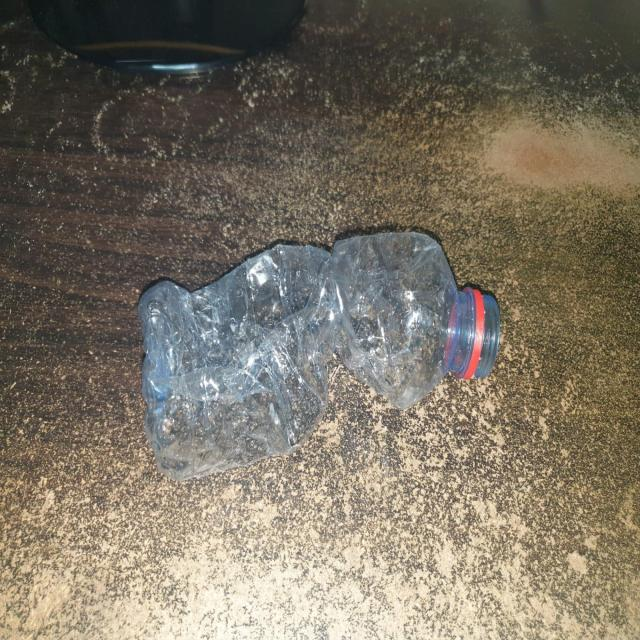bottle: (138, 225, 503, 490)
